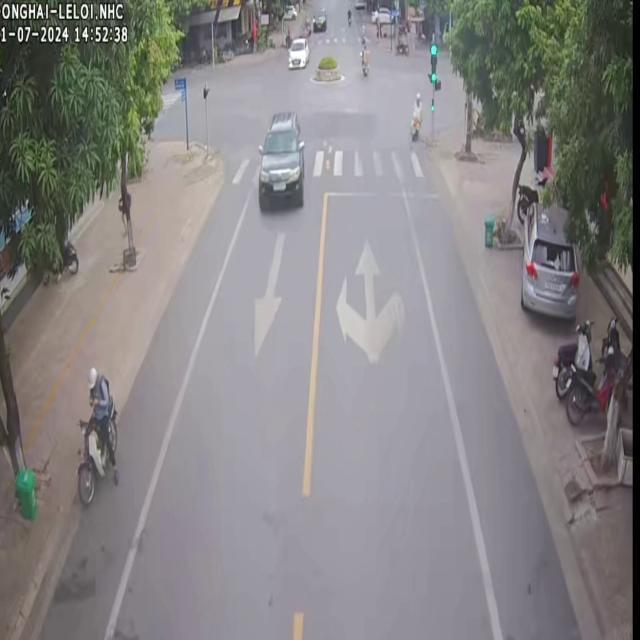car: (519, 200, 577, 316), (257, 109, 303, 209), (287, 36, 308, 66)
green_light: (429, 42, 435, 84)
motobike: (76, 365, 117, 502), (564, 345, 613, 422), (552, 318, 590, 398), (408, 91, 420, 139), (358, 25, 369, 76)
stop_line: (323, 189, 438, 197)
